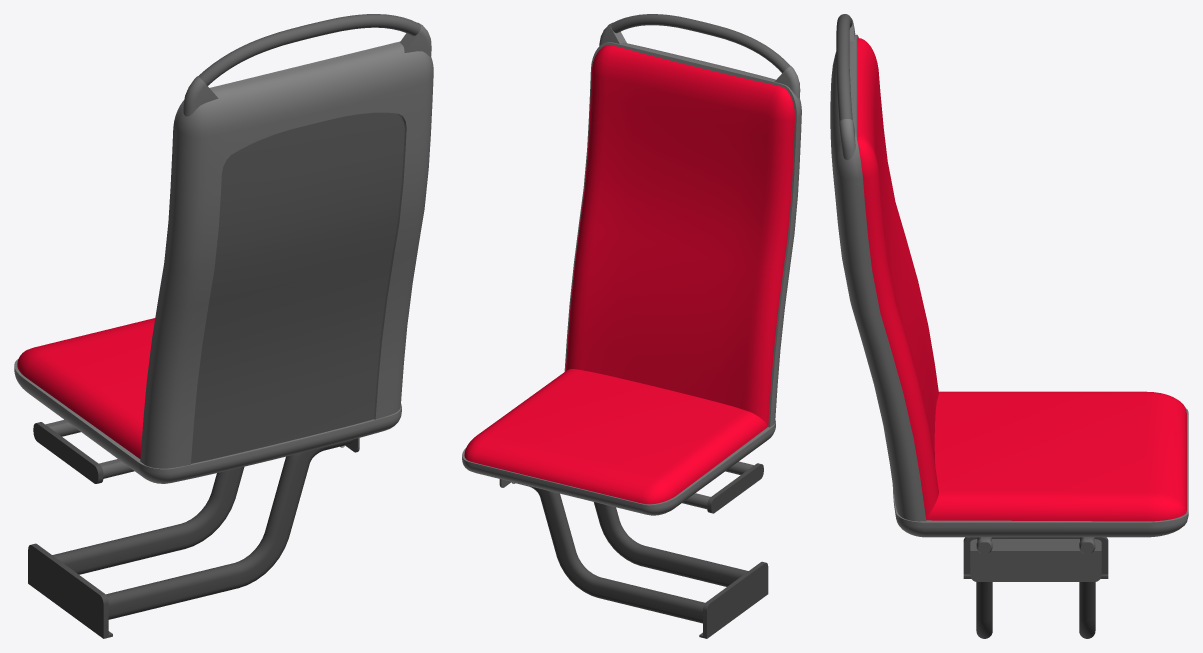
The model's file is Seat.fbx.
The picture shows the model from 3 angles, left to right: view 1: azimuth 30°, elevation 25°; view 2: azimuth 150°, elevation 25°; view 3: azimuth 270°, elevation 25°; orthographic projection. The views are drawn at different scales.
Parts seen in each view (by area): view 1: siedzenia; view 2: siedzenia; view 3: siedzenia.
Part boxes in pixels (x1,y1,x2,y2): siedzenia: (14,14,433,638); siedzenia: (462,14,801,638); siedzenia: (830,14,1188,638).
Size of the model in its own units: 44.3 by 96.65 by 52.31.
